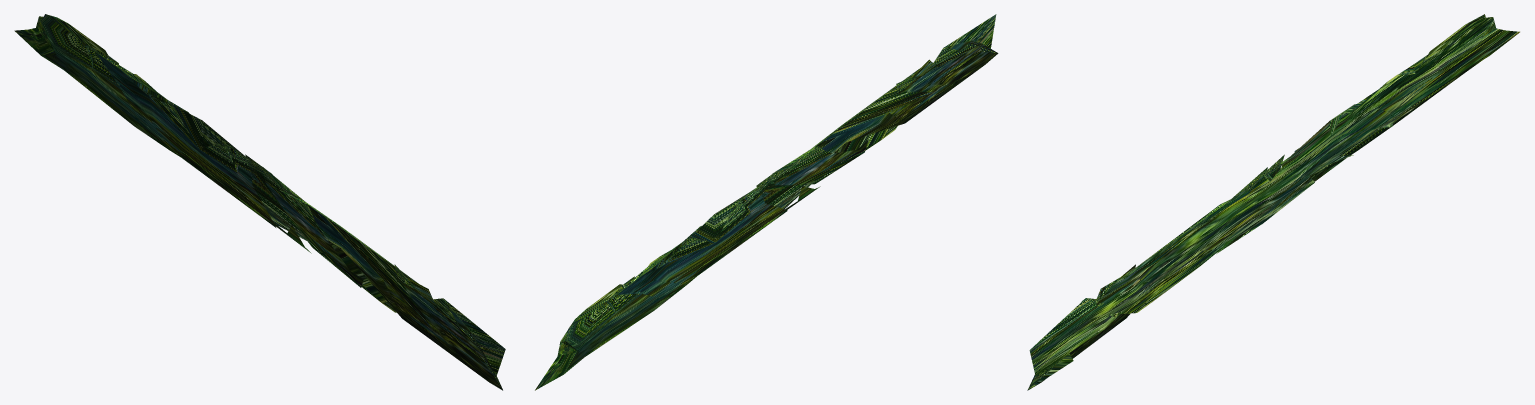
3 renders of one model, left to right at view 1: azimuth 30°, elevation 25°; view 2: azimuth 150°, elevation 25°; view 3: azimuth 330°, elevation 25°, orthographic. The views are drawn at different scales.
Visible parts, largest first — view 1: algae_cube_Cube; view 2: algae_cube_Cube; view 3: algae_cube_Cube.
Part boxes in pixels (left/top/right/bottom): algae_cube_Cube: left=14, top=14, right=505, bottom=390; algae_cube_Cube: left=535, top=14, right=998, bottom=390; algae_cube_Cube: left=1027, top=14, right=1519, bottom=390.
Bounding box in the file's own units: 0.0137 × 0.1791 × 2.97.
